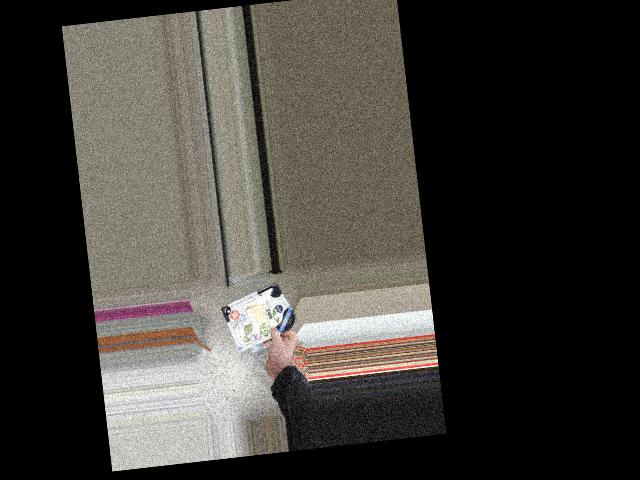cheese: (224, 288, 293, 342)
